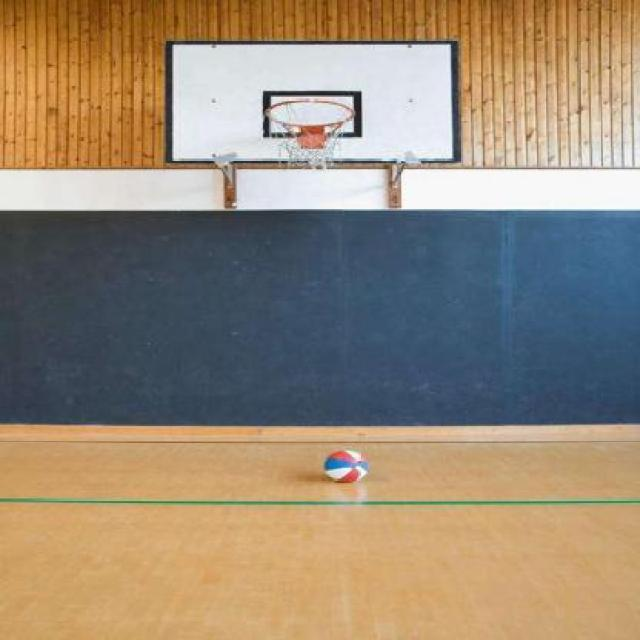basketball: (322, 450, 370, 482)
rim: (265, 99, 359, 168)
